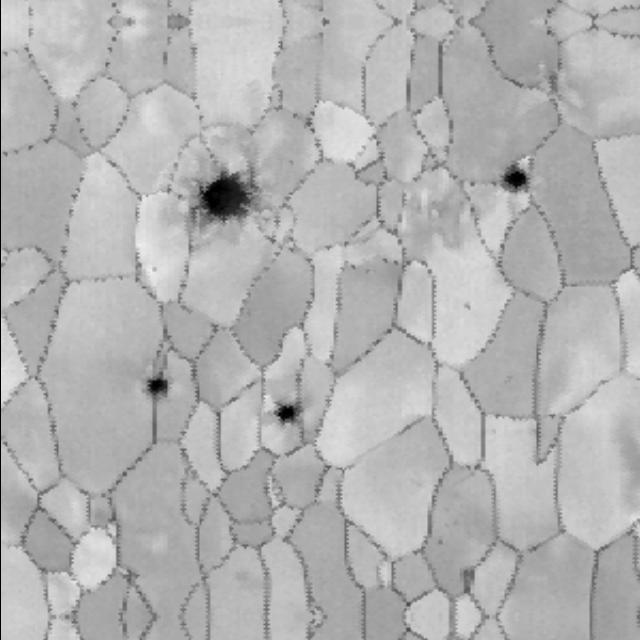good_void: (179, 161, 268, 229), (263, 391, 311, 433), (137, 366, 178, 409), (483, 164, 525, 200), (457, 564, 479, 596), (432, 528, 446, 548), (462, 298, 475, 315), (146, 266, 159, 274)
